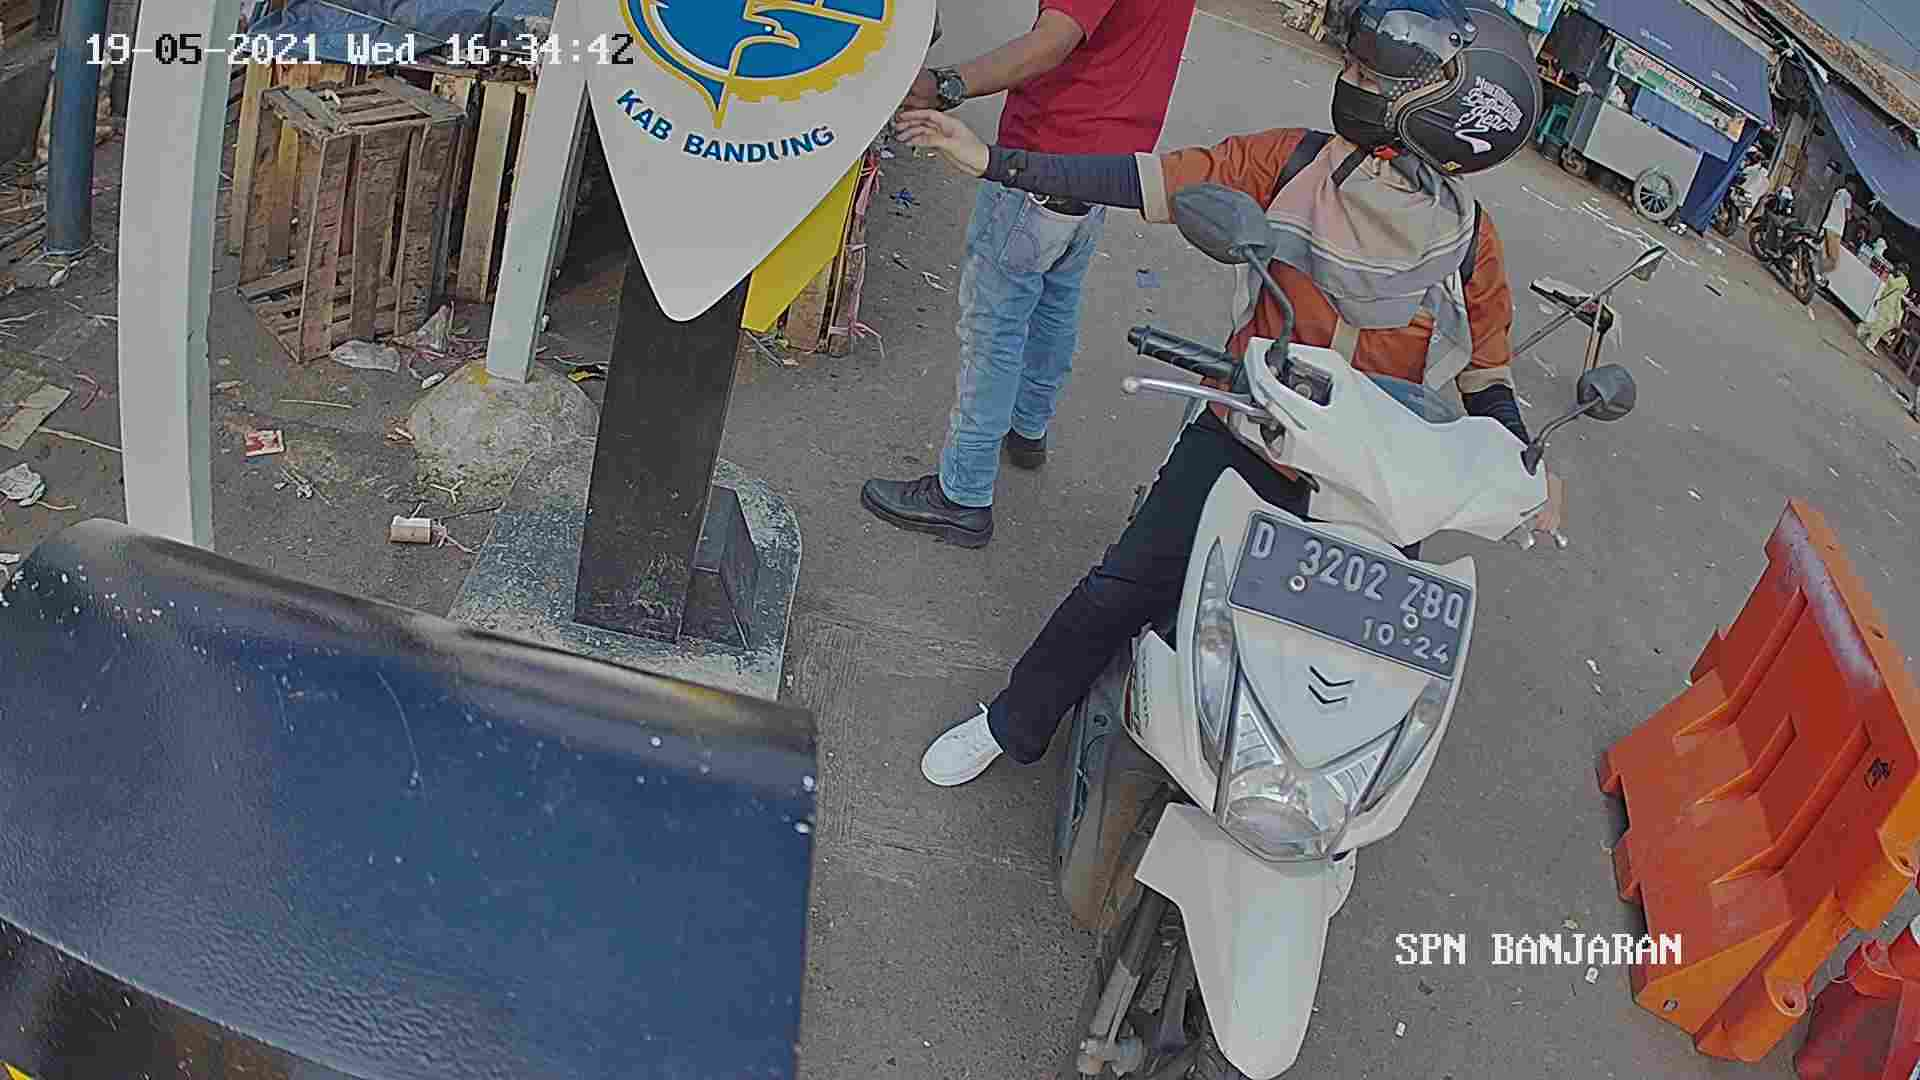motor: (1073, 309, 1543, 1080)
